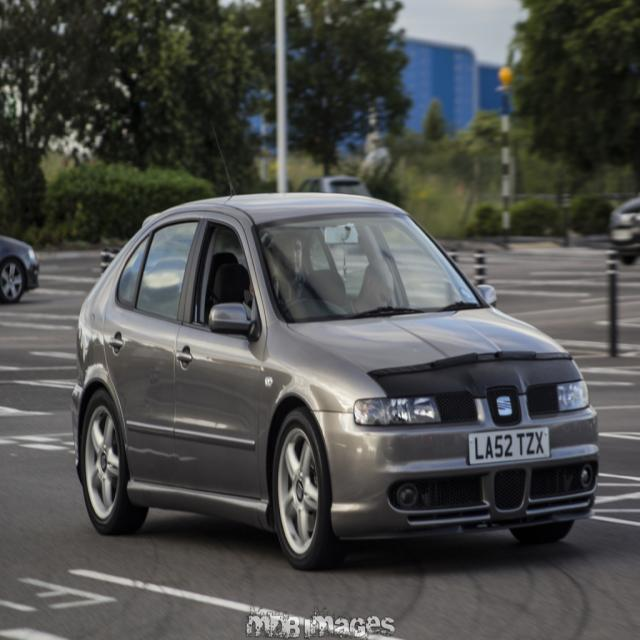car: (62, 188, 585, 564)
